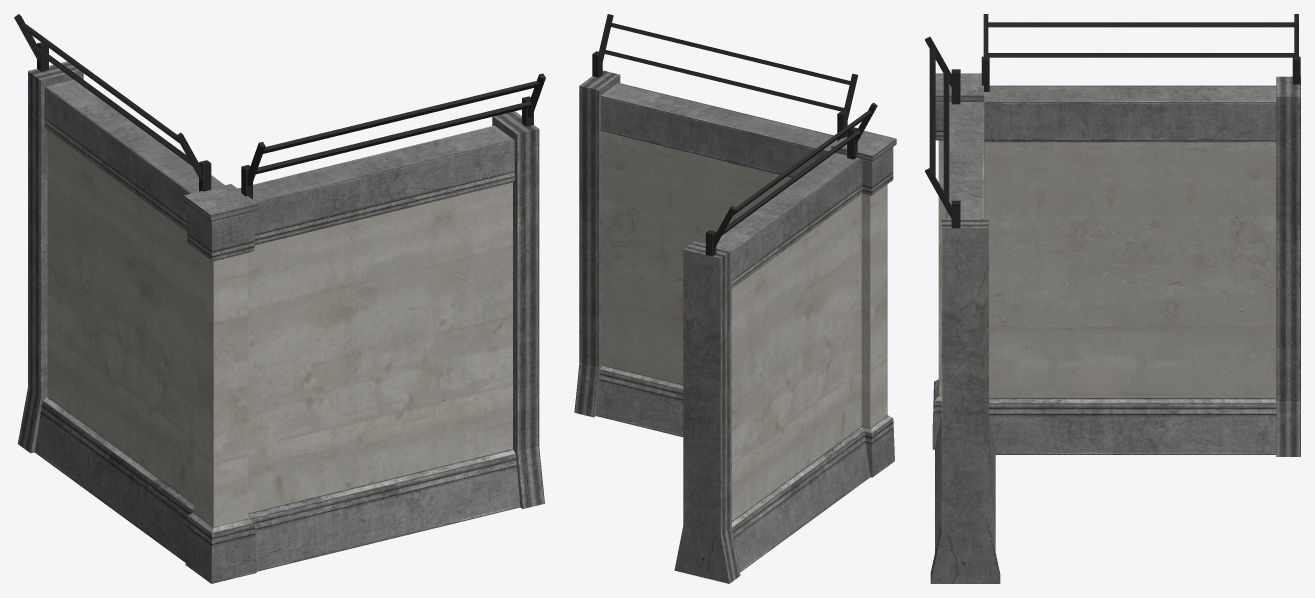
File: HH_Fence_B_Angle_01.fbx
3 renders of one model, left to right at view 1: azimuth 30°, elevation 25°; view 2: azimuth 150°, elevation 25°; view 3: azimuth 270°, elevation 25°, orthographic. The views are drawn at different scales.
Visible parts, largest first — view 1: HH_Fence_B_Angle_01_LOD0; view 2: HH_Fence_B_Angle_01_LOD0; view 3: HH_Fence_B_Angle_01_LOD0.
Part boxes in pixels (x1,y1,x2,y2): HH_Fence_B_Angle_01_LOD0: [14, 14, 545, 583]; HH_Fence_B_Angle_01_LOD0: [574, 14, 896, 583]; HH_Fence_B_Angle_01_LOD0: [925, 14, 1300, 583].
Size of what is drawn, in the model's own units: 235 by 286 by 235.
